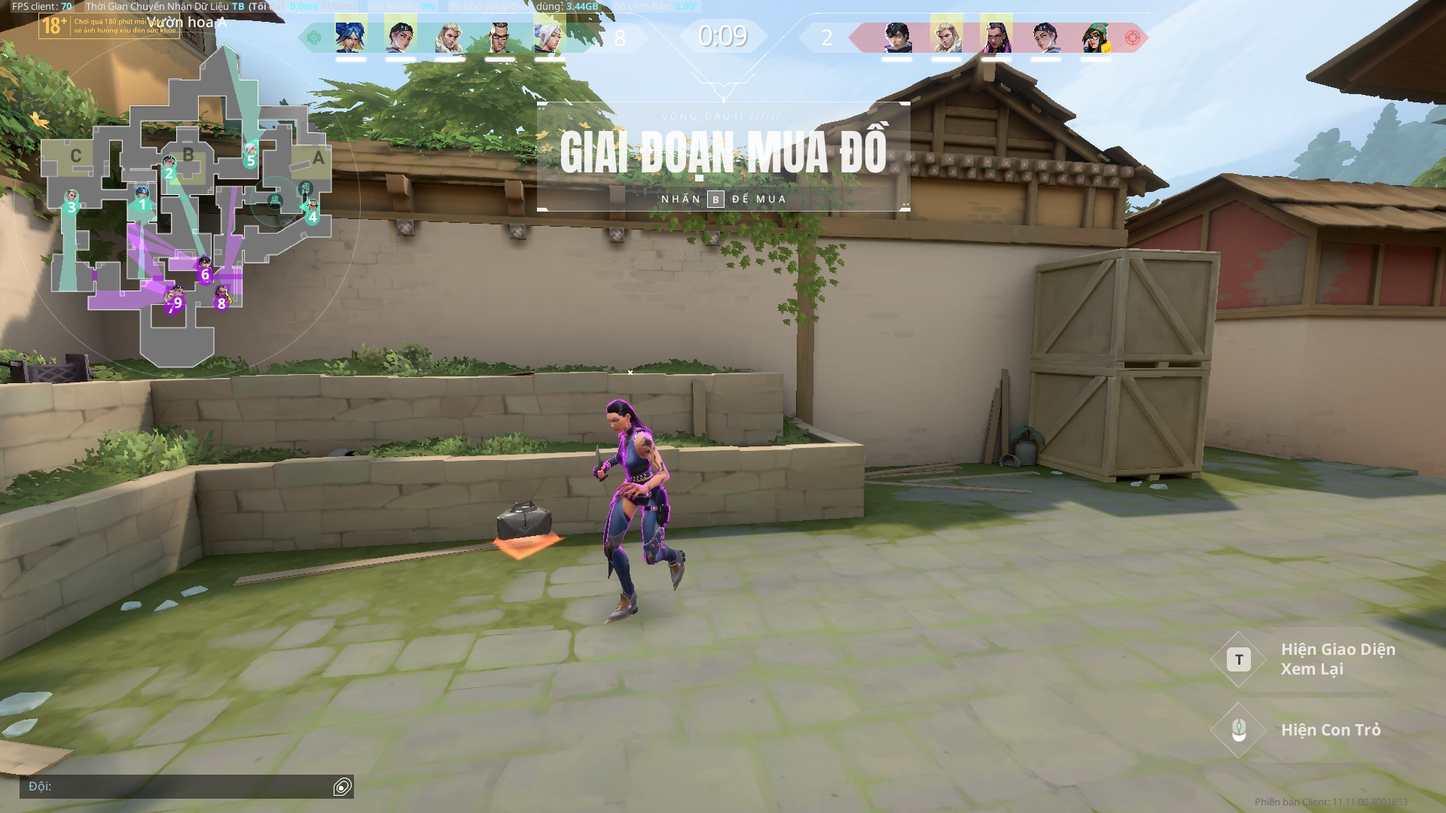body: (616, 427, 662, 482)
head: (605, 397, 636, 432)
